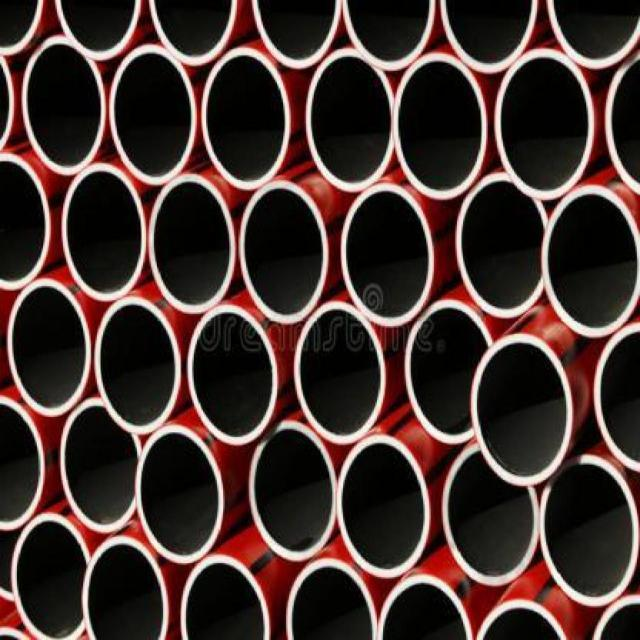pipe: (493, 48, 595, 201), (470, 334, 572, 487), (540, 455, 639, 608), (542, 185, 639, 339), (391, 54, 487, 199), (443, 445, 540, 587), (336, 434, 430, 579), (455, 173, 548, 319), (293, 301, 386, 445), (340, 185, 433, 327), (404, 299, 495, 444), (305, 48, 396, 192), (239, 180, 329, 325), (188, 305, 279, 445), (248, 419, 337, 561), (108, 43, 196, 185), (202, 48, 290, 190), (134, 425, 224, 563), (149, 174, 236, 313), (62, 164, 147, 301), (7, 279, 92, 416), (95, 298, 181, 433), (23, 36, 106, 175), (59, 400, 142, 533), (11, 513, 91, 639), (83, 535, 169, 640), (179, 553, 269, 640), (287, 557, 378, 639), (440, 0, 539, 74), (592, 320, 639, 473), (0, 153, 51, 290), (342, 0, 436, 71), (546, 0, 639, 71), (251, 0, 344, 69), (0, 395, 46, 531), (377, 574, 472, 639), (148, 0, 238, 68), (601, 57, 640, 198), (54, 0, 142, 62), (471, 593, 571, 640)
